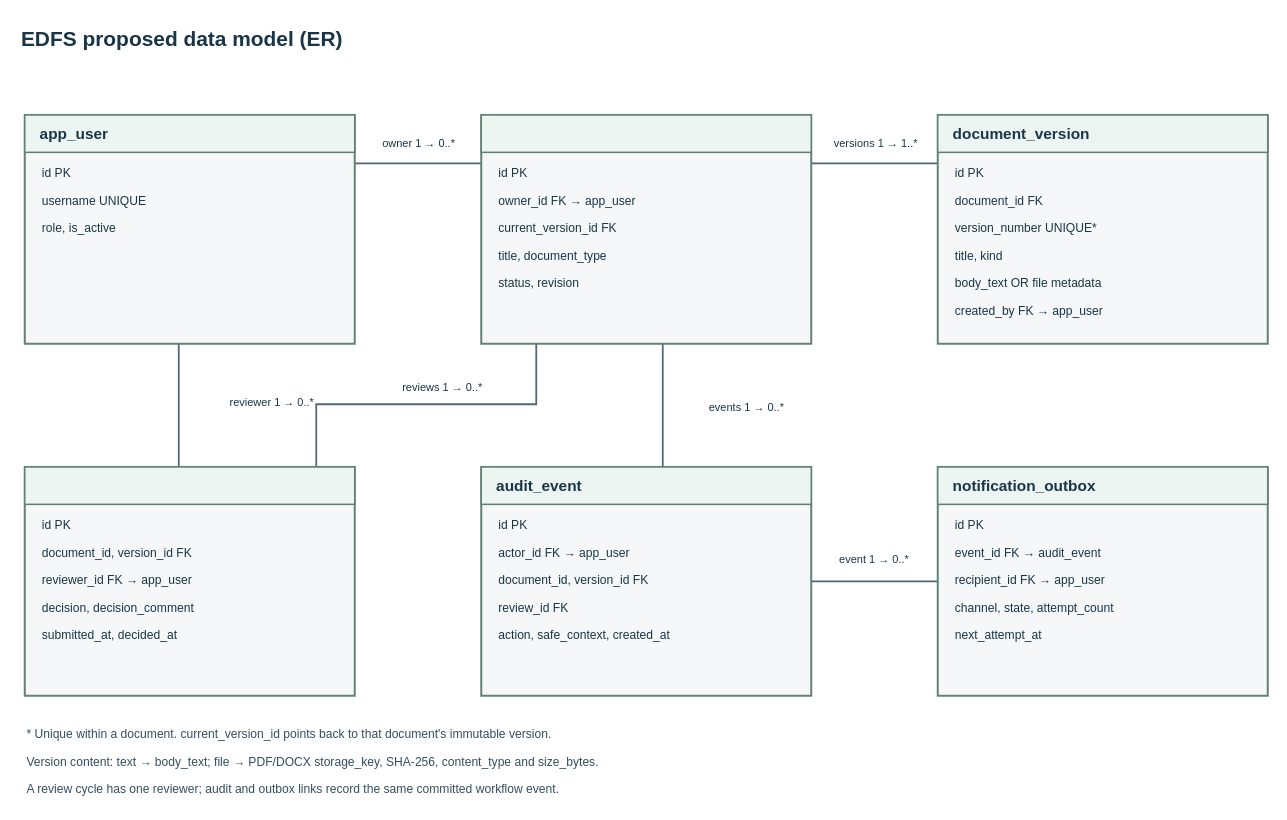
The diagram is 1287 pixels wide and 820 high, and some of its shapes have lost their labels. Each missing label, with the centre of its shape:
document: pixel 645 133
review_cycle: pixel 189 485
